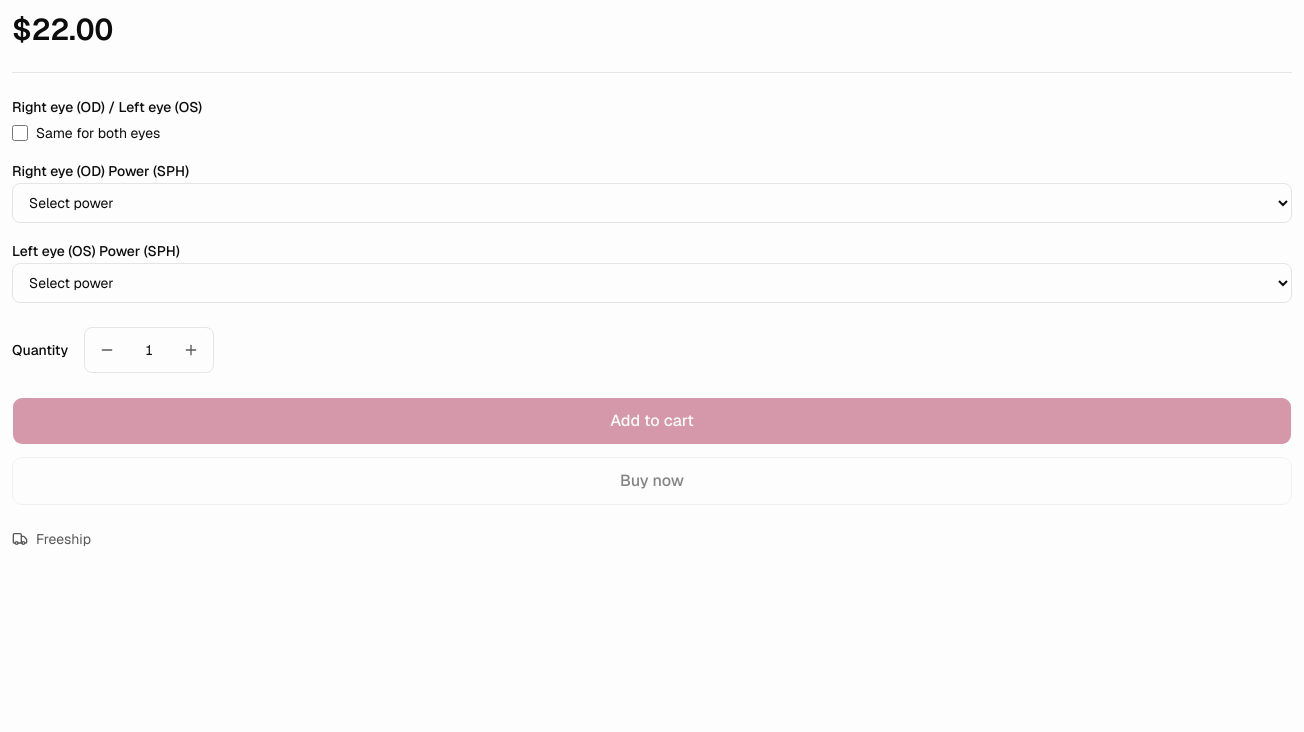
AddToCart — Rx gating (Task 5, Step 4) › shows the required-Rx message only after the shopper has touched the selector
// Touch the control but leave the prescription incomplete (right only).
Select "-2.50" in the dropdown labelled "Right eye (OD) Power (SPH)" at (652, 203), box [12,183,1292,223]
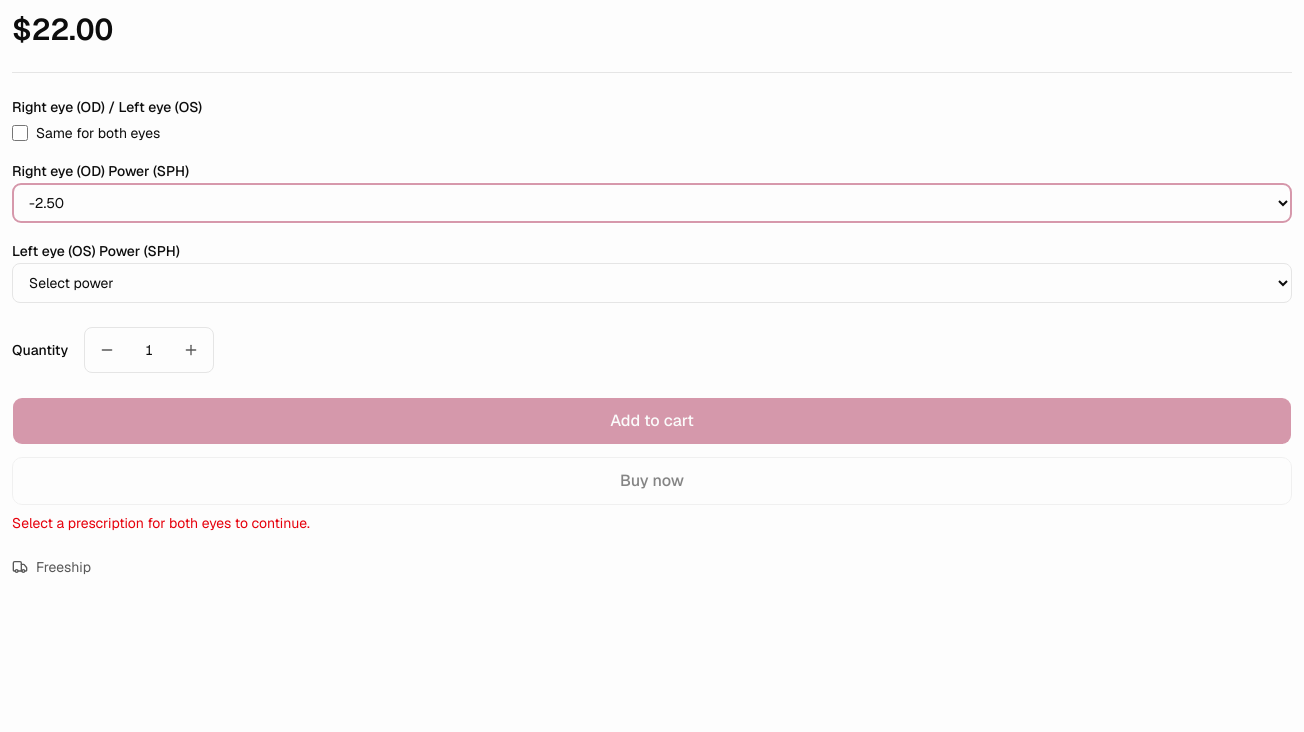
expect the message reads "Select a prescription for both eyes to continue.": met, box [12,514,310,532]
